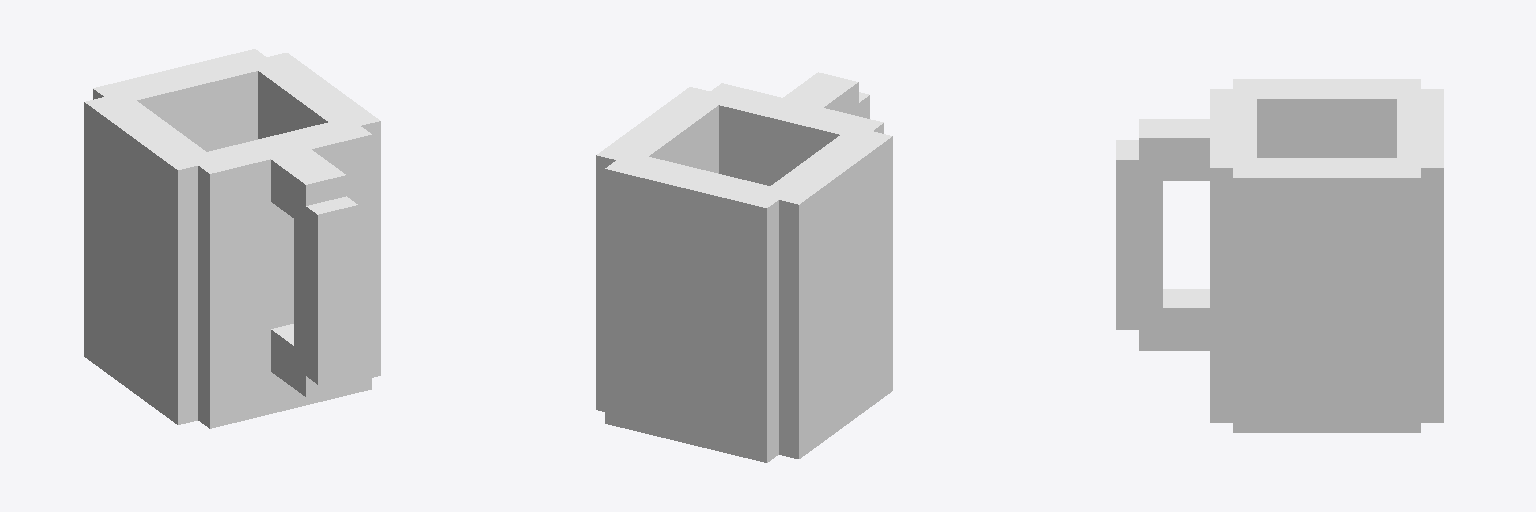
Rendered from kuppi2.obj.
3 views of the same model, side by side, from view 1: azimuth 30°, elevation 25°; view 2: azimuth 150°, elevation 25°; view 3: azimuth 270°, elevation 25° (orthographic).
Parts seen in each view (by area): view 1: kuppi2; view 2: kuppi2; view 3: kuppi2.
Part boxes in pixels (bbox=[...]): kuppi2: bbox=[84, 49, 380, 428]; kuppi2: bbox=[596, 72, 892, 462]; kuppi2: bbox=[1116, 79, 1443, 432].
Bounding box in the file's own units: 10 × 12 × 14.